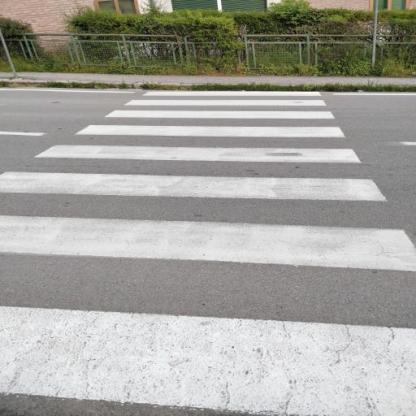crosswalk: (31, 121, 372, 170), (119, 89, 332, 110)
